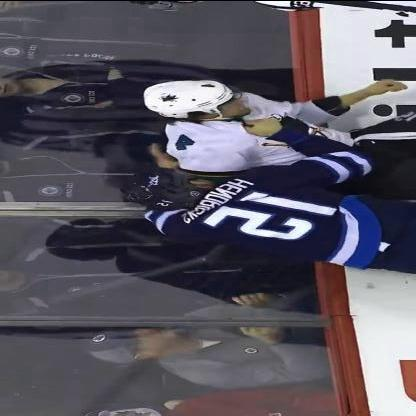voilence: (121, 78, 416, 272)
